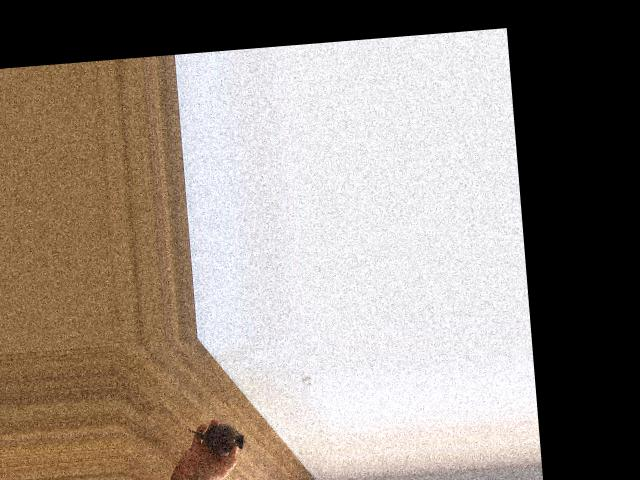beet: (188, 421, 245, 458)
